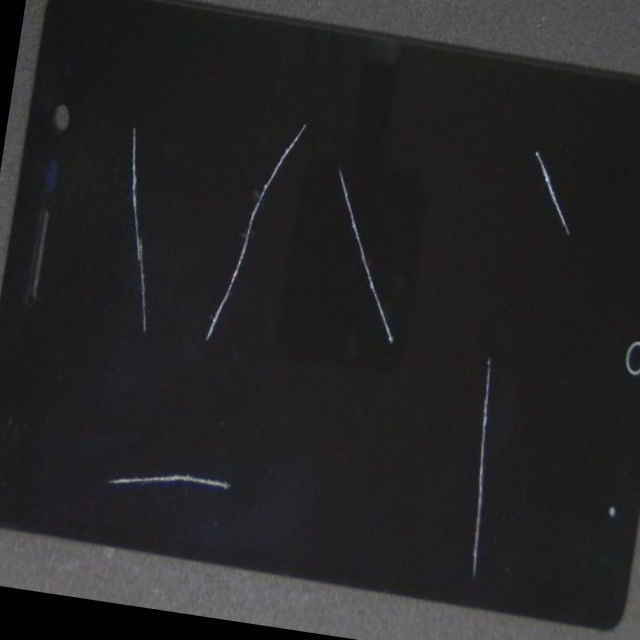scratch: (138, 204, 411, 639), (235, 240, 599, 487), (158, 52, 472, 271), (90, 233, 246, 441)
